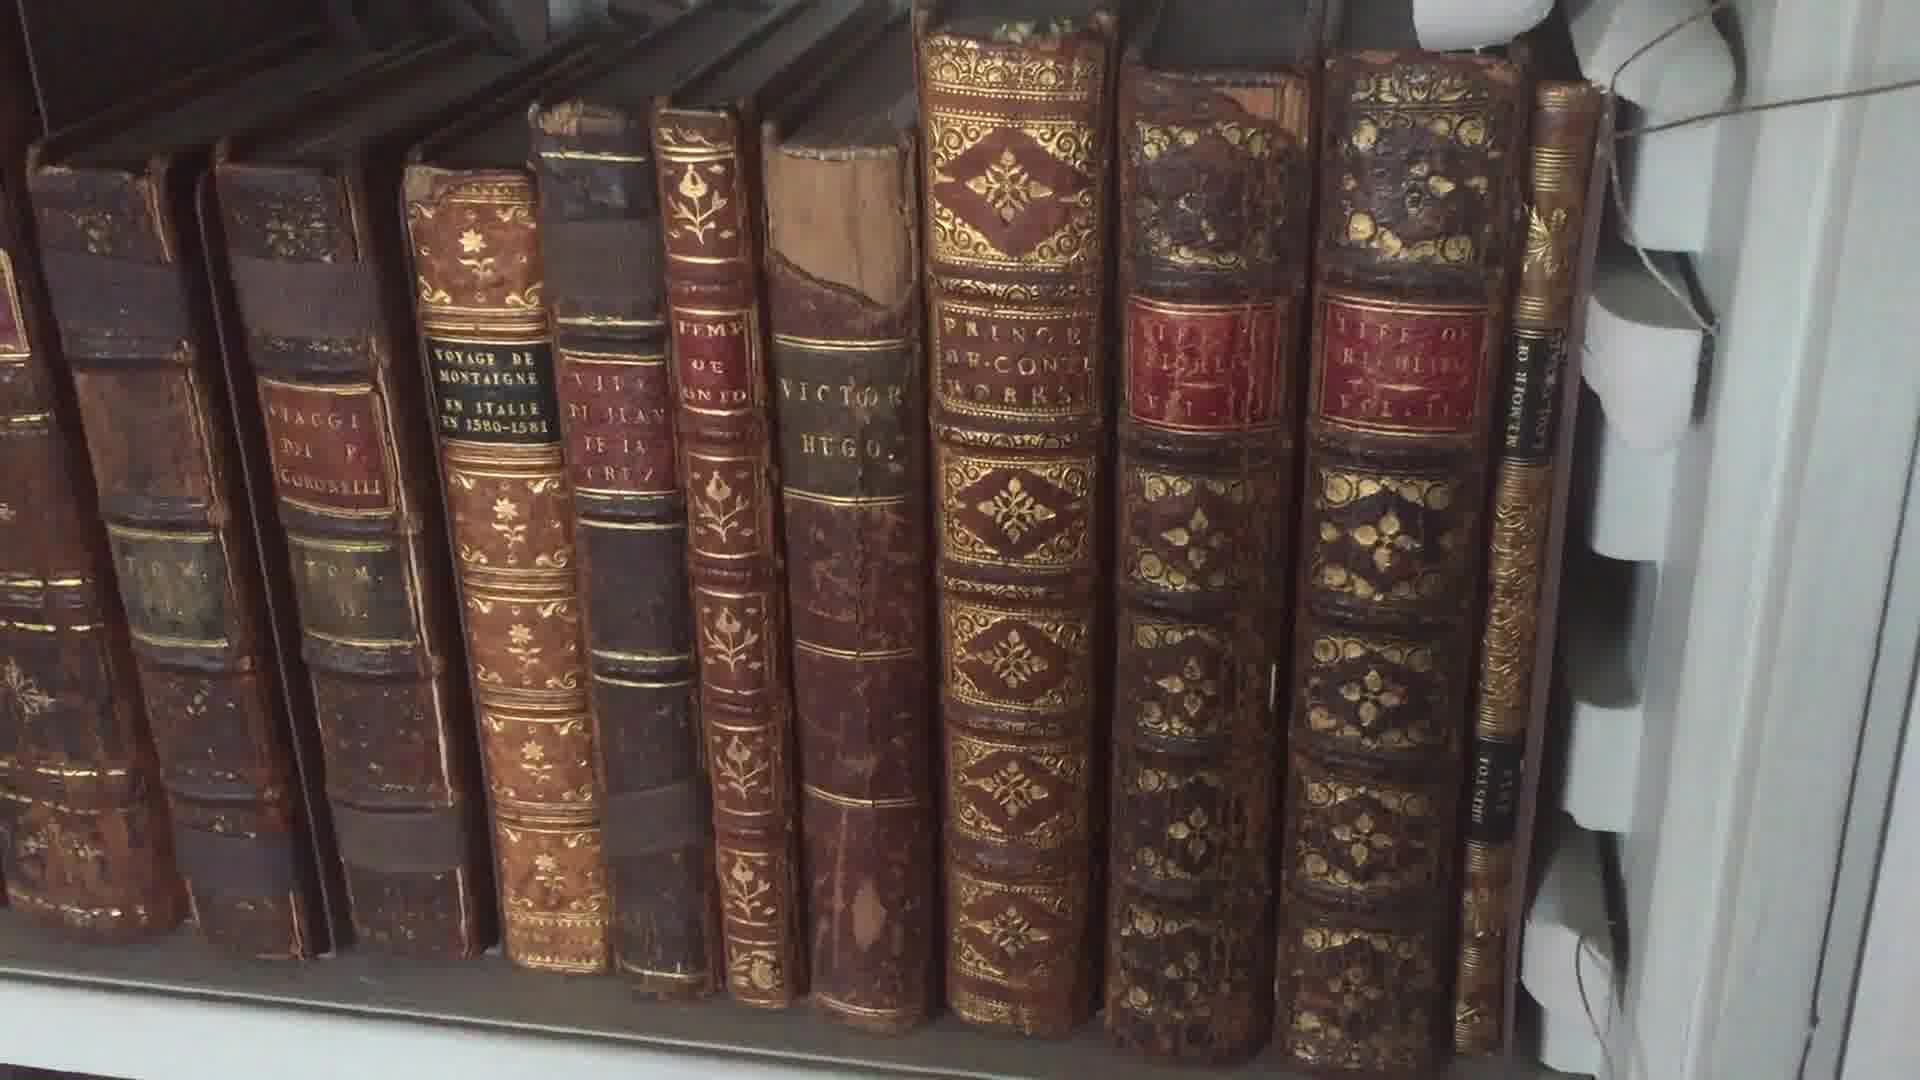Aa6-39_40: (12, 131, 492, 973)
Aa6-41: (372, 152, 616, 992)
Aa6-42: (512, 92, 699, 986)
Aa6-43: (621, 63, 808, 1031)
Aa6-44: (741, 135, 945, 1044)
Aa6-45: (914, 17, 1116, 1056)
Aa6-46-47: (1116, 58, 1448, 1056)
Aa6-48: (1451, 51, 1594, 1068)
